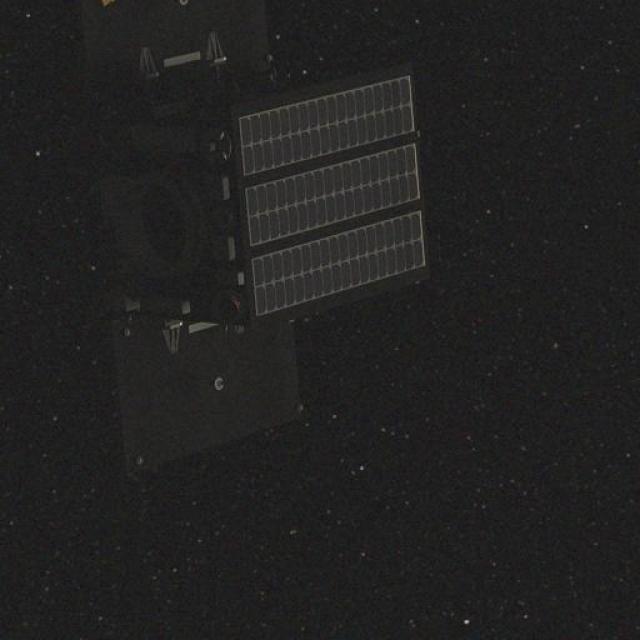proba_2: (50, 22, 425, 462)
